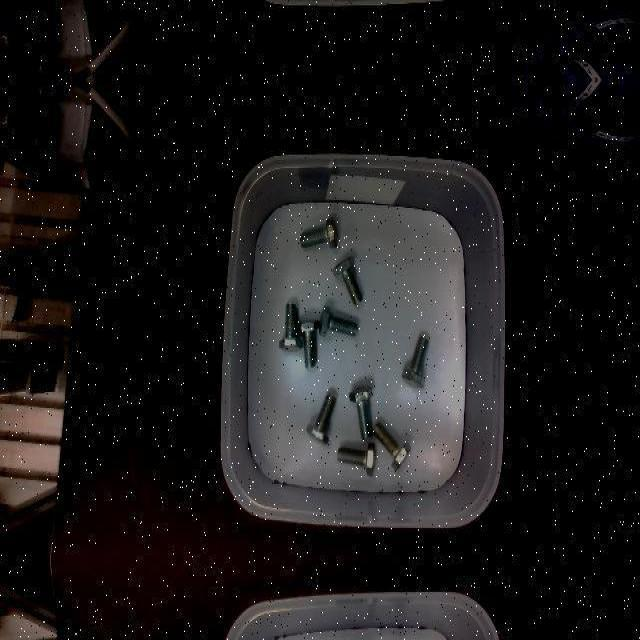screw: (372, 422, 411, 470), (306, 392, 336, 444), (332, 255, 363, 305), (400, 333, 428, 387), (337, 441, 375, 475), (318, 304, 358, 336), (300, 218, 339, 250), (350, 385, 373, 439), (278, 302, 302, 352), (296, 319, 321, 367)
